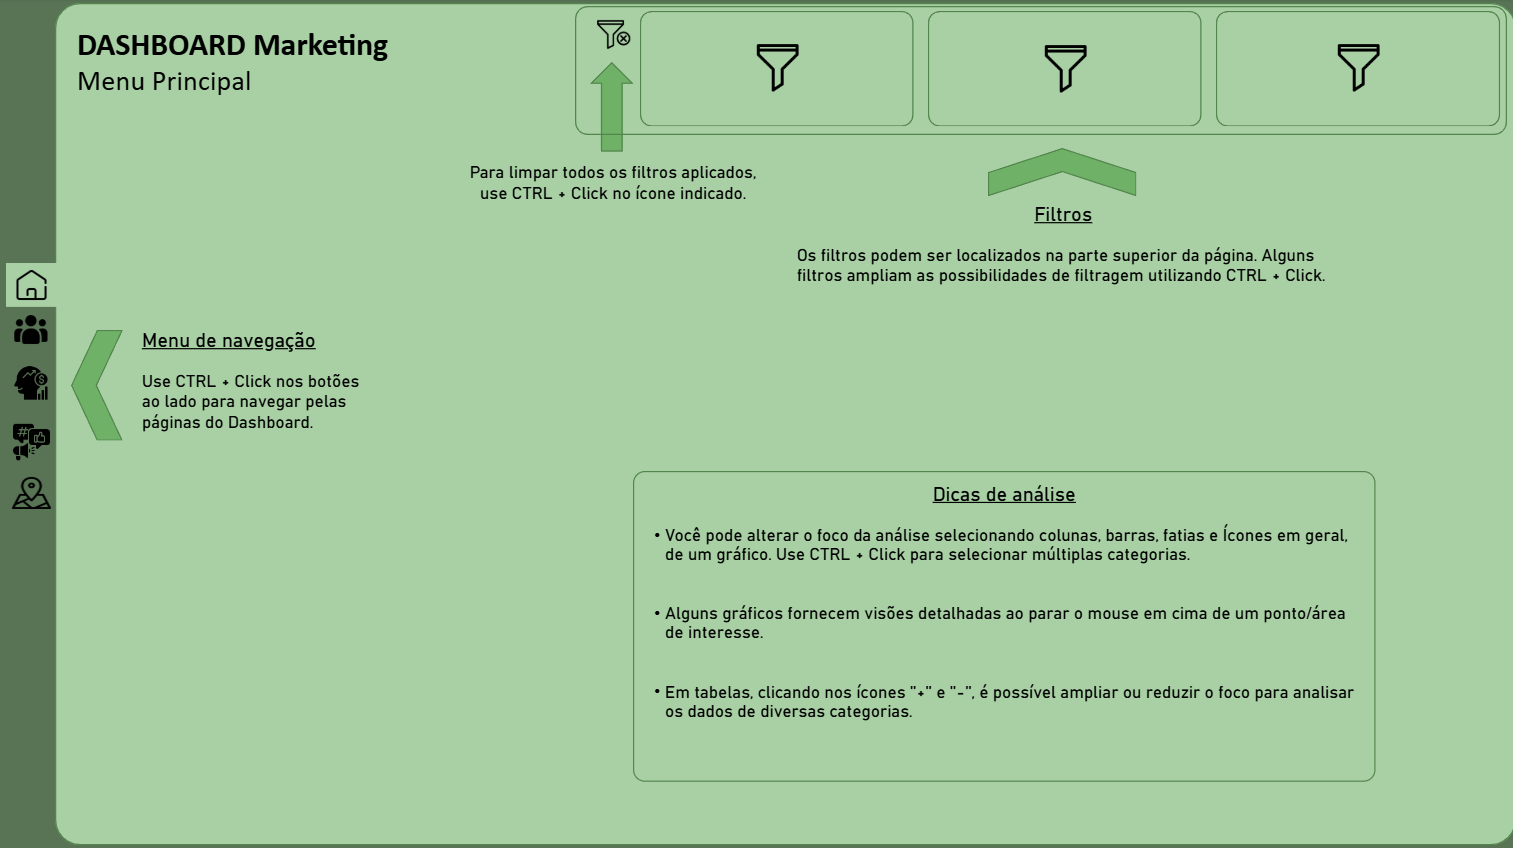

The dashboard page shown, as its layout file describes it:
{"tool":"powerbi","page":{"name":"Menu","canvas":[1280,720],"ordinal":0},"visuals":[{"type":"group","id":"g1","title":"Grupo 1","box":[48.2,4.5,1231.8,710],"z":0},{"type":"shape","box":[48.2,4.5,1231.8,710],"z":0,"group":"g1"},{"type":"textbox","box":[61.9,17.9,290.2,73.5],"z":1000,"group":"g1"},{"type":"group","id":"g2","title":"Grupo 5","box":[7,223.6,42.7,212.7],"z":1000},{"type":"shape","box":[61.6,280.2,43.7,93.4],"z":2000},{"type":"image","box":[632,32.8,49.7,52.7],"z":3000},{"type":"image","box":[7,398.9,42.7,37.3],"z":3000,"group":"g3"},{"type":"shape","box":[541.6,10.9,230.6,97.4],"z":4000},{"type":"image","box":[7,260.7,42.7,38.2],"z":4000,"group":"g3"},{"type":"shape","box":[784.1,10.9,230.6,97.4],"z":5000},{"type":"group","id":"g3","title":"Grupo 2","box":[7,260.7,42.7,175.5],"z":5000,"group":"g2"},{"type":"image","box":[7,303.4,42.7,41.8],"z":5000,"group":"g3"},{"type":"shape","box":[1026.6,10.9,239.5,97.4],"z":6000},{"type":"image","box":[7,223.6,42.6,37.2],"z":6000,"group":"g2"},{"type":"image","box":[7,349.8,42.7,48.2],"z":6000,"group":"g3"},{"type":"textbox","box":[116.8,273.8,194.8,99.4],"z":6004,"group":"g1"},{"type":"shape","box":[834.8,126.2,125.2,40.7],"z":7000},{"type":"shape","box":[486.5,6.7,785.8,108.8],"z":8000},{"type":"image","box":[875.5,33.8,49.7,52.7],"z":9000},{"type":"image","box":[1122,32.8,49.7,52.7],"z":10000},{"type":"textbox","box":[668.6,166.9,459.5,93.6],"z":11000},{"type":"textbox","box":[535.7,398.5,626.1,262.4],"z":12000},{"type":"shape","box":[499.2,54.6,36.8,75.5],"z":12002,"group":"g1"},{"type":"image","box":[498.9,11.9,39.8,37.8],"z":13000},{"type":"textbox","box":[387.6,134.2,261.4,49.7],"z":14000}]}

Visuals, with their boxes in screenshot pixels (x1, y1, x2, y2), scaled from the page's 1280x720 canvas onto the 1513x848 screenshot:
"Grupo 1" group: {"x1": 57, "y1": 5, "x2": 1512, "y2": 842}
shape: {"x1": 57, "y1": 5, "x2": 1512, "y2": 842}
textbox: {"x1": 73, "y1": 21, "x2": 416, "y2": 108}
"Grupo 5" group: {"x1": 8, "y1": 263, "x2": 59, "y2": 514}
shape: {"x1": 73, "y1": 330, "x2": 124, "y2": 440}
image: {"x1": 747, "y1": 39, "x2": 806, "y2": 101}
image: {"x1": 8, "y1": 470, "x2": 59, "y2": 514}
shape: {"x1": 640, "y1": 13, "x2": 913, "y2": 128}
image: {"x1": 8, "y1": 307, "x2": 59, "y2": 352}
shape: {"x1": 927, "y1": 13, "x2": 1199, "y2": 128}
"Grupo 2" group: {"x1": 8, "y1": 307, "x2": 59, "y2": 514}
image: {"x1": 8, "y1": 357, "x2": 59, "y2": 407}
shape: {"x1": 1213, "y1": 13, "x2": 1497, "y2": 128}
image: {"x1": 8, "y1": 263, "x2": 59, "y2": 307}
image: {"x1": 8, "y1": 412, "x2": 59, "y2": 469}
textbox: {"x1": 138, "y1": 322, "x2": 368, "y2": 440}
shape: {"x1": 987, "y1": 149, "x2": 1135, "y2": 197}
shape: {"x1": 575, "y1": 8, "x2": 1504, "y2": 136}
image: {"x1": 1035, "y1": 40, "x2": 1094, "y2": 102}
image: {"x1": 1326, "y1": 39, "x2": 1385, "y2": 101}
textbox: {"x1": 790, "y1": 197, "x2": 1333, "y2": 307}
textbox: {"x1": 633, "y1": 469, "x2": 1373, "y2": 778}
shape: {"x1": 590, "y1": 64, "x2": 634, "y2": 153}
image: {"x1": 590, "y1": 14, "x2": 637, "y2": 59}
textbox: {"x1": 458, "y1": 158, "x2": 767, "y2": 217}
